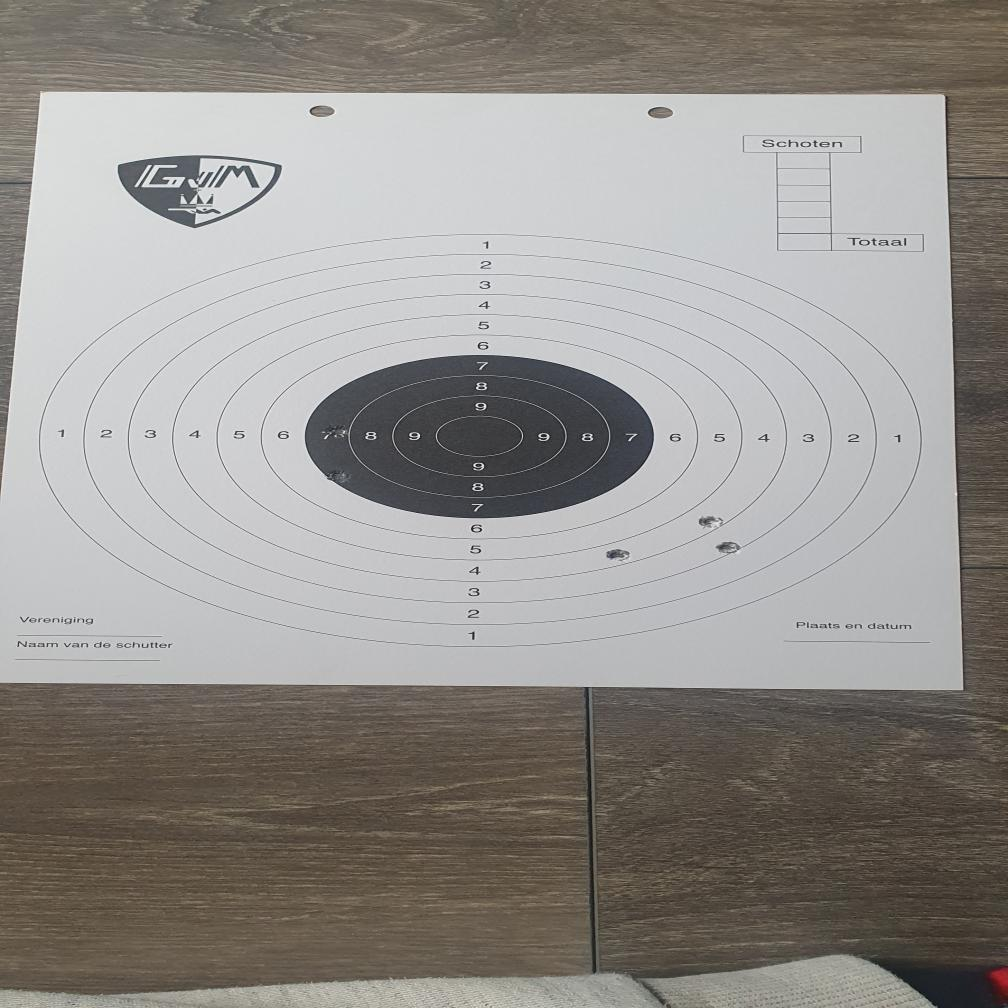3: (712, 540, 742, 557)
4: (696, 515, 726, 529), (603, 549, 632, 562)
7: (317, 422, 352, 441), (321, 470, 353, 484)
Target: (36, 233, 927, 650)
black_contour: (305, 354, 655, 519)
